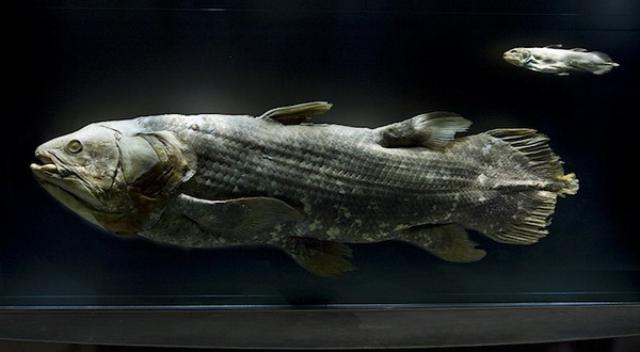Mulut: (12, 124, 74, 195)
Sirip Anal: (412, 216, 484, 244)
Sirip Dada: (168, 170, 310, 246)
Sirip Ekor: (479, 119, 585, 249)
Sirip Perut: (284, 226, 366, 284)
Sirip Punggung: (254, 86, 474, 158)
